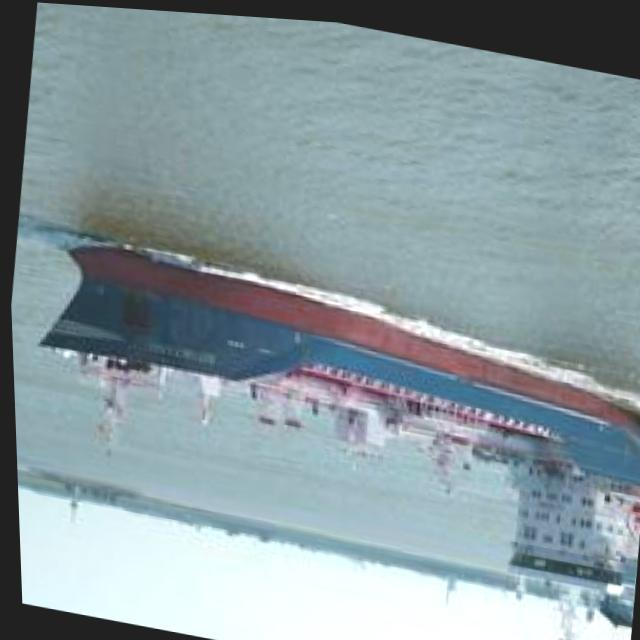ship2: (34, 238, 640, 640)
